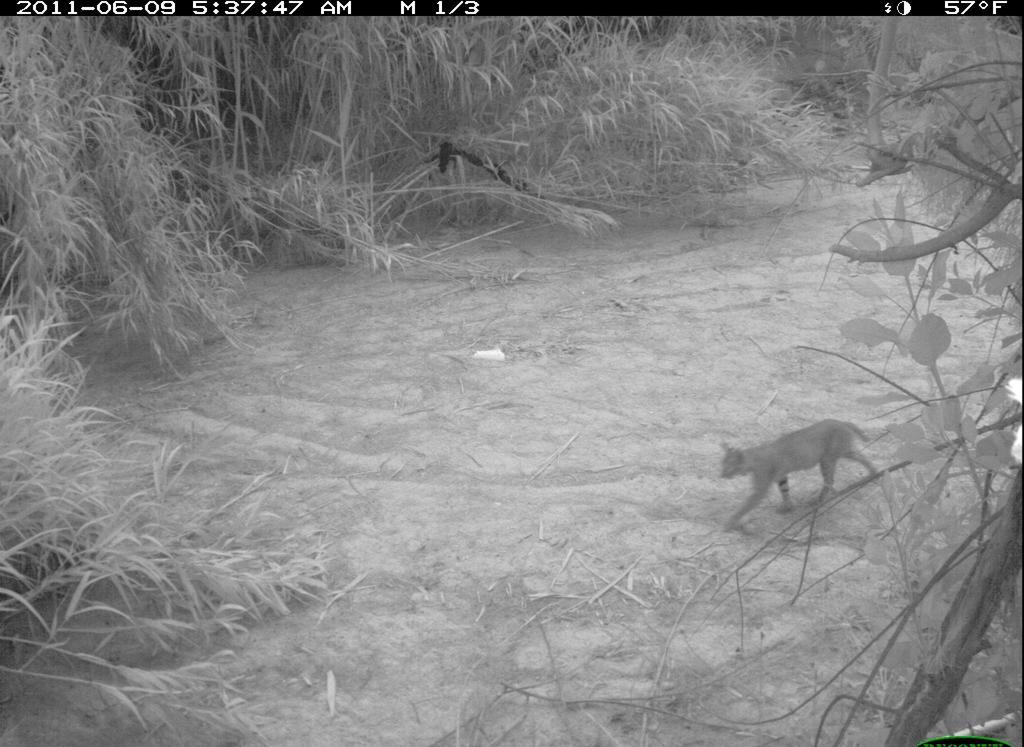bobcat: (707, 414, 918, 534)
